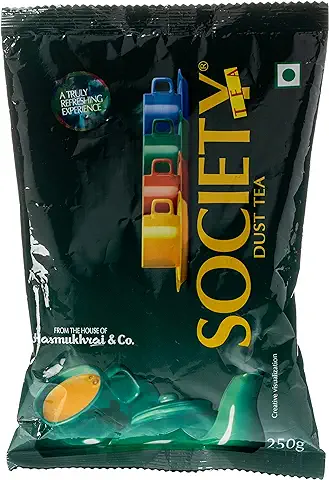Tea: (3, 9, 329, 480)
